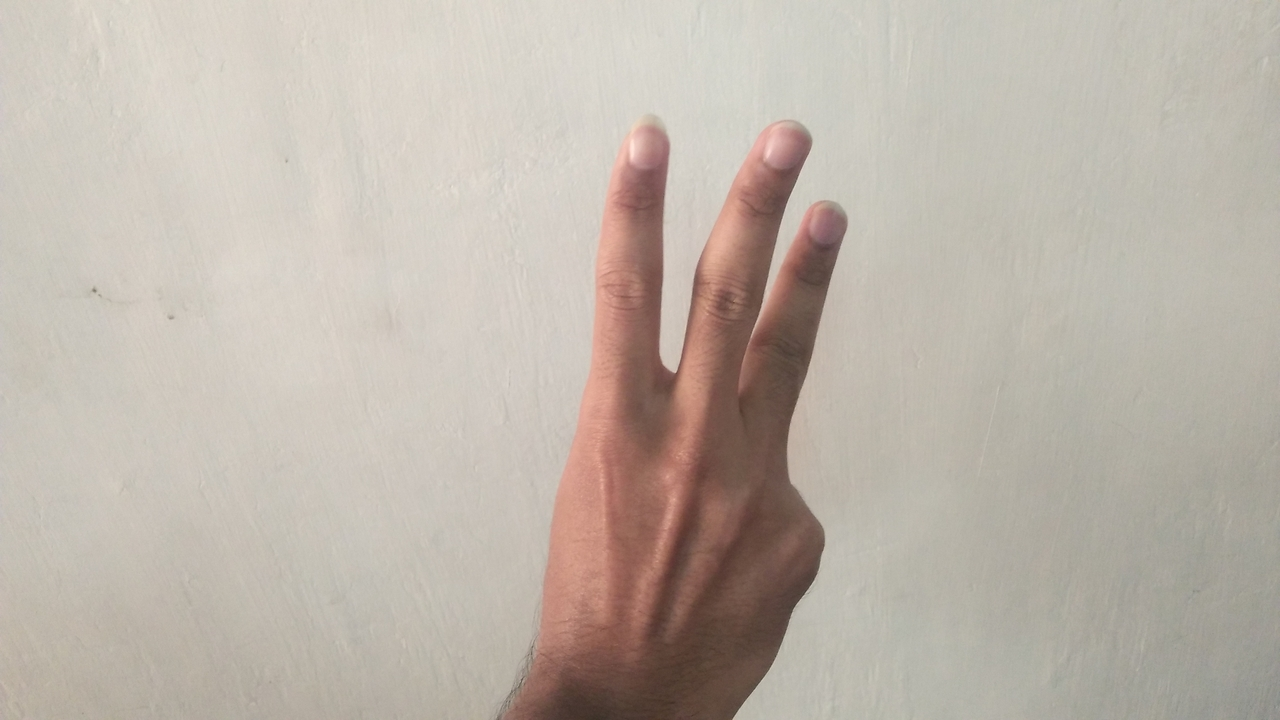fingertip: (748, 118, 820, 176), (796, 188, 856, 254), (612, 116, 676, 176)
